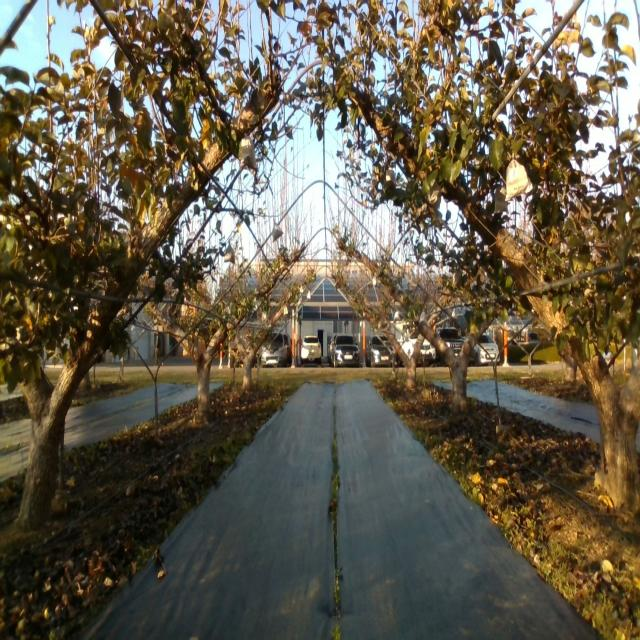pearbags: (505, 153, 533, 202), (238, 133, 258, 170), (494, 186, 509, 213), (272, 222, 283, 243), (225, 241, 235, 264)
